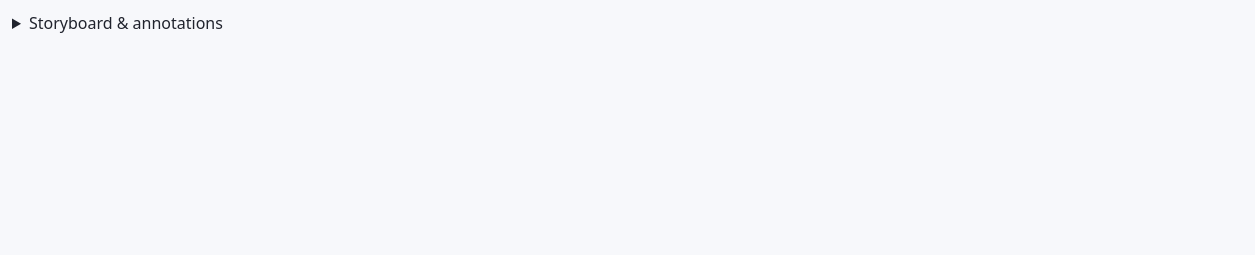
Test: retains an unsaved caption after a concurrent board change until it is discarded
The width and height of the screenshot is (1255, 255).
Click the heading "Storyboard & annotations" at point(126, 23), box [29, 12, 223, 34]
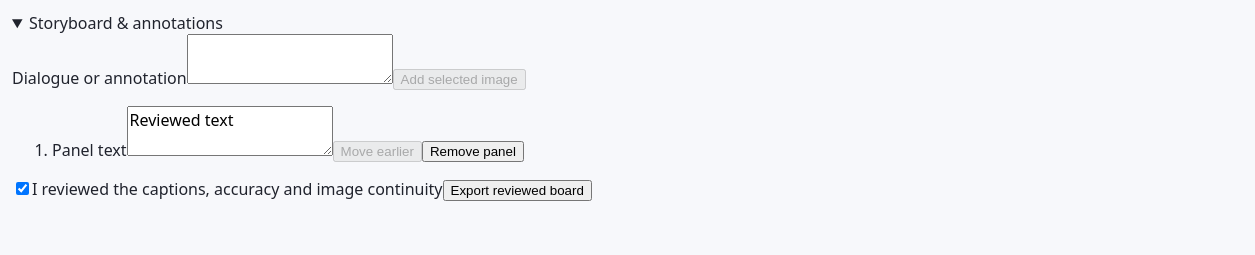
Replace the text in the text box labelled "Panel text" with "Unsaved caption" at point(230, 131), box [127, 106, 333, 156]
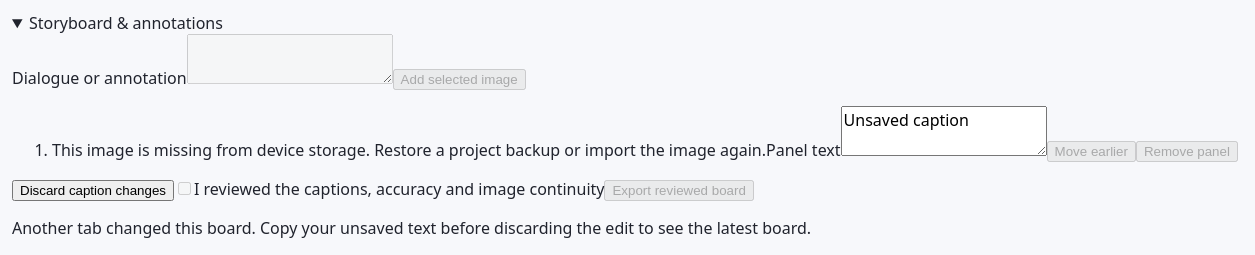
Click the button "Discard caption changes" at point(93, 190), box [12, 180, 174, 201]
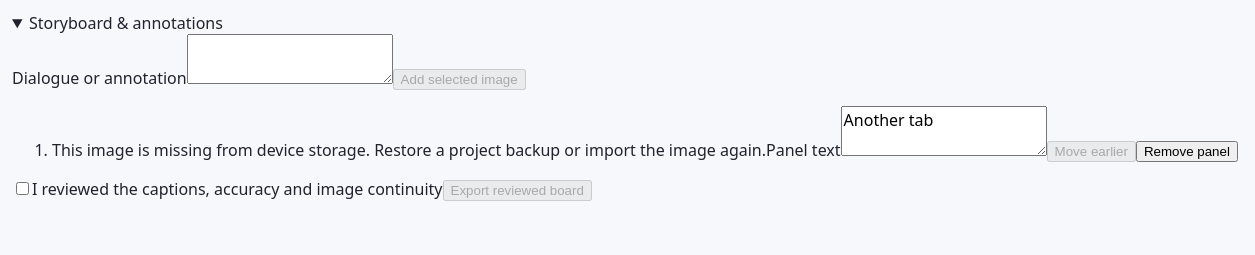
Result: the text box labelled "Panel text" holds "Another tab" at [841, 106, 1047, 156]
